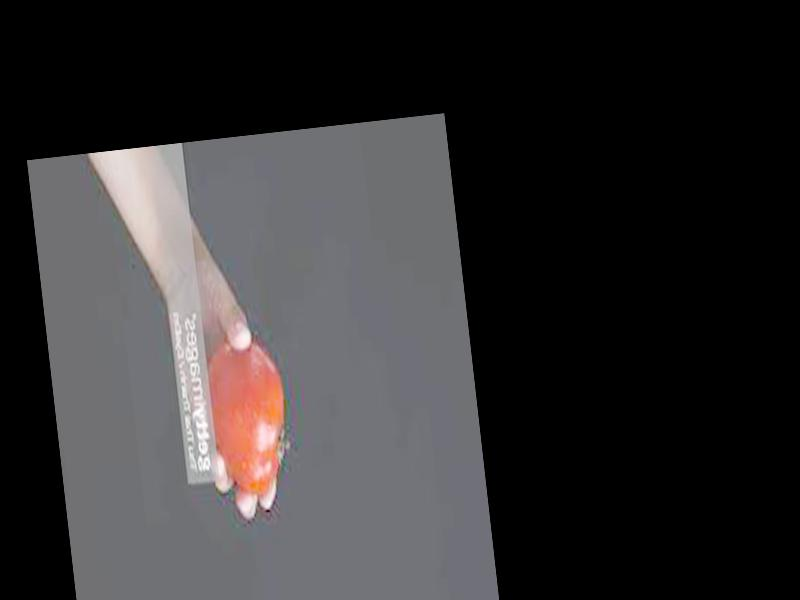Tomato: (201, 341, 295, 504)
